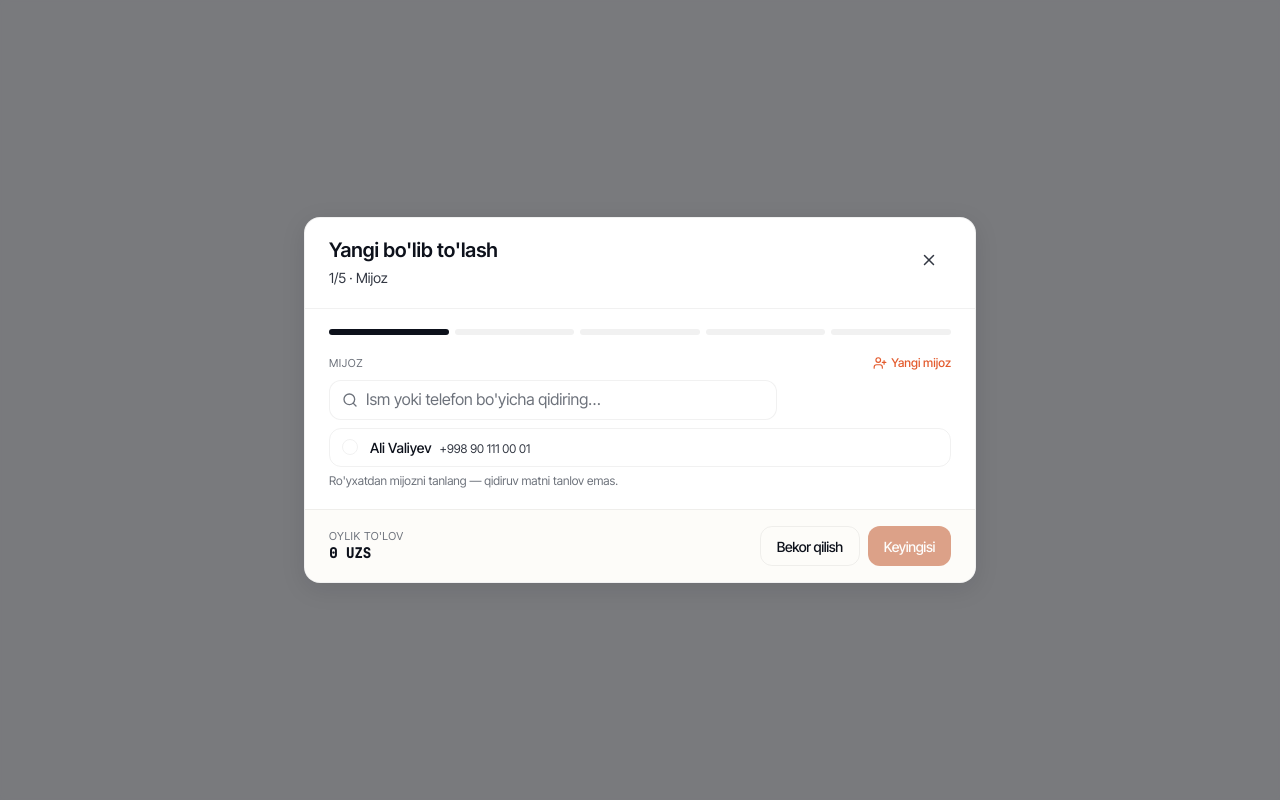
a contract line records its category › offers EVERY category, not just the tenant’s own segment
What coordinates should you click on to do the following:
click the text "Ali Valiyev"
I would click on:
 (401, 447)
Its box is [370,438,432,456].
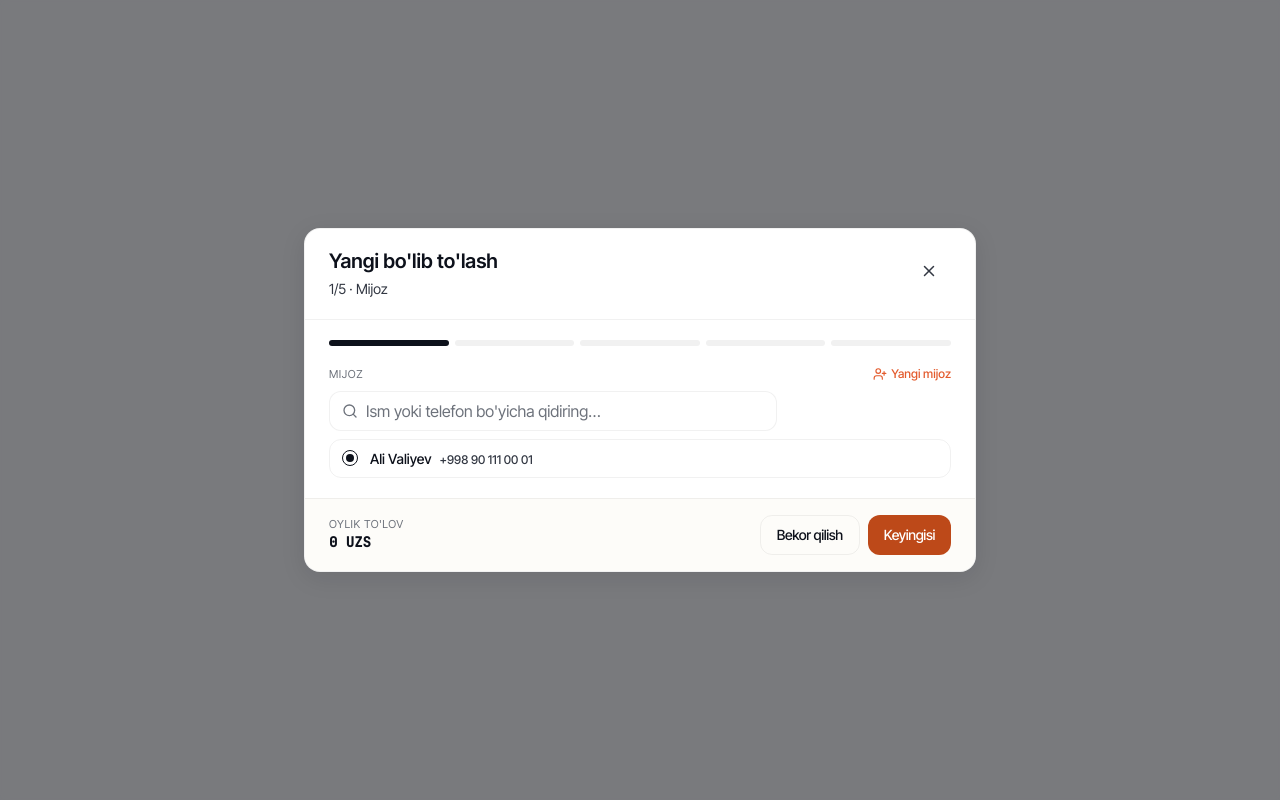
What coordinates should you click on to do the following:
click the button "Keyingisi"
I would click on:
 (909, 535)
Its box is [868,515,951,555].
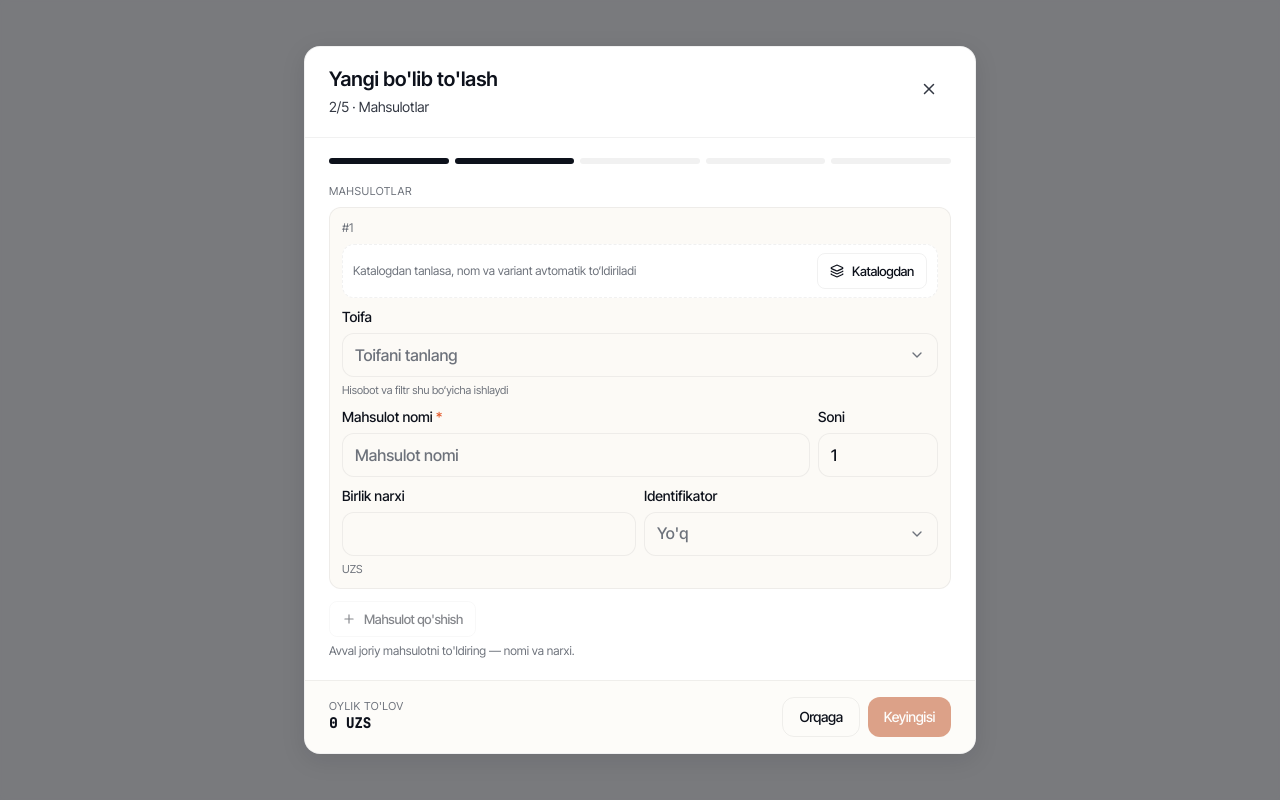
What coordinates should you click on to do the following:
click the dropdown labelled "Toifani tanlang"
I would click on:
 (406, 355)
Its box is [342,333,938,377].
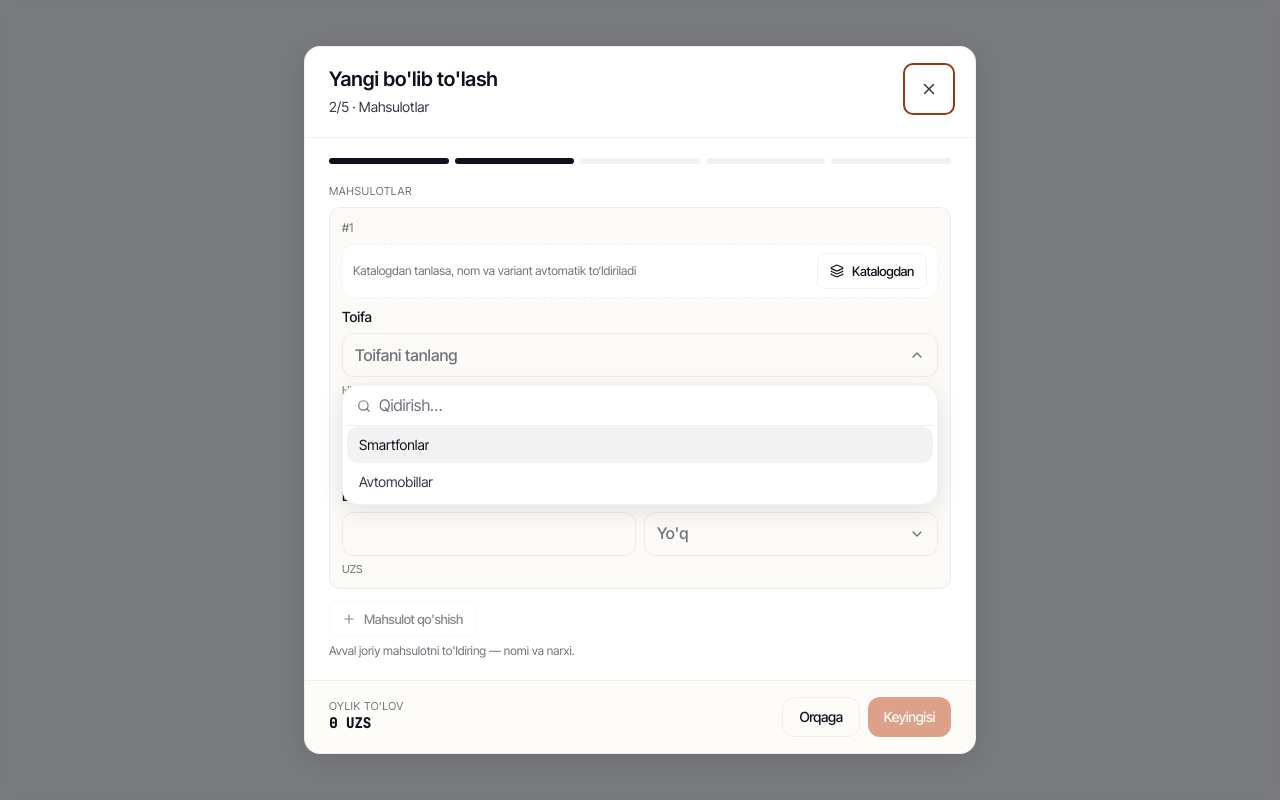
Now the option "Avtomobillar" is shown, box [347,463,933,500]
Now the option "Smartfonlar" is shown, box [347,426,933,463]
